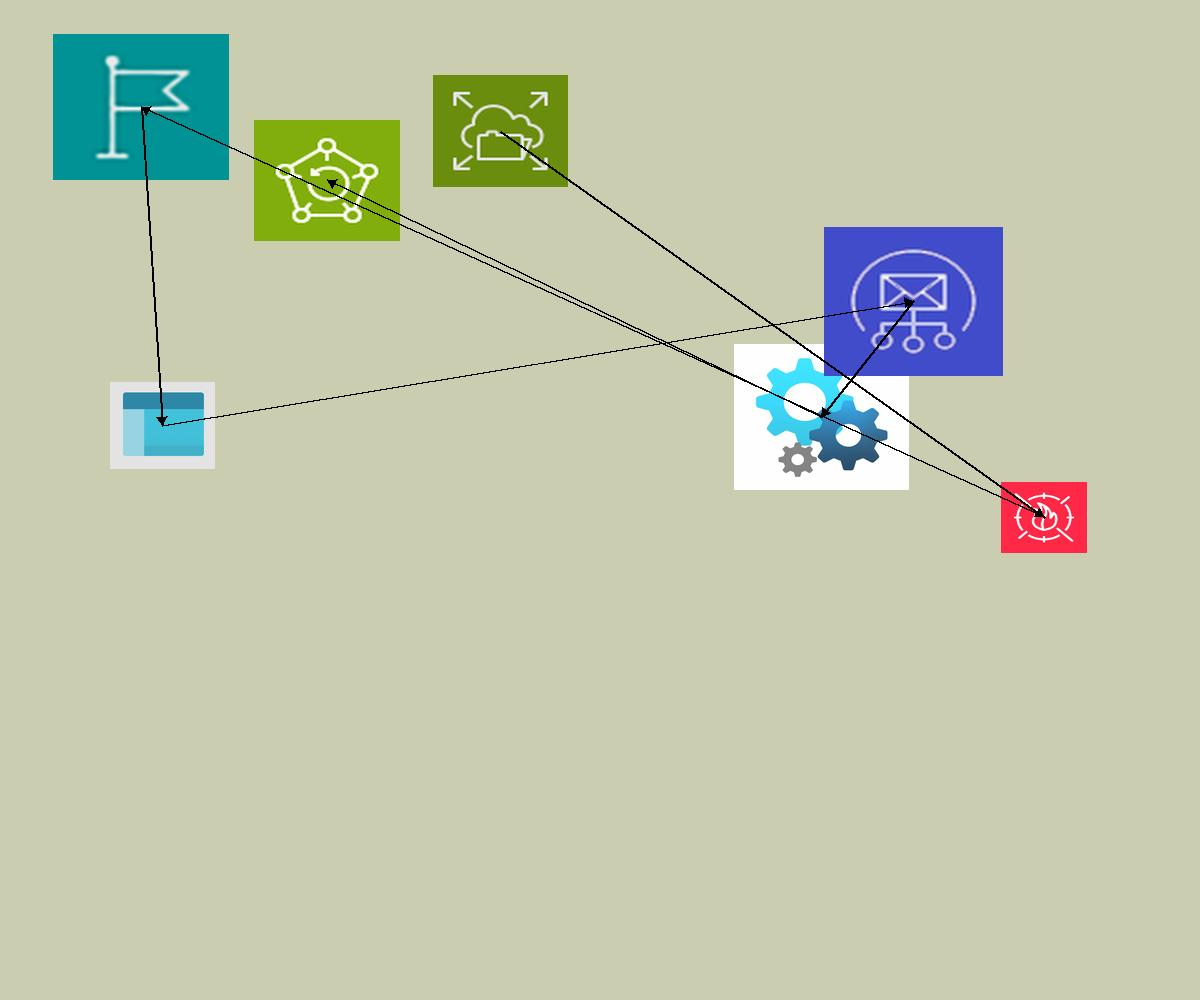AWS-Backup: (254, 120, 400, 241)
AWS-EFS: (433, 75, 568, 187)
AWS-Region: (53, 34, 229, 180)
AWS-Simple-Email-Service: (824, 227, 1003, 376)
AWS-WAF: (1001, 482, 1087, 553)
Azure_api: (734, 344, 909, 490)
Azure_management-portal: (110, 382, 215, 469)
